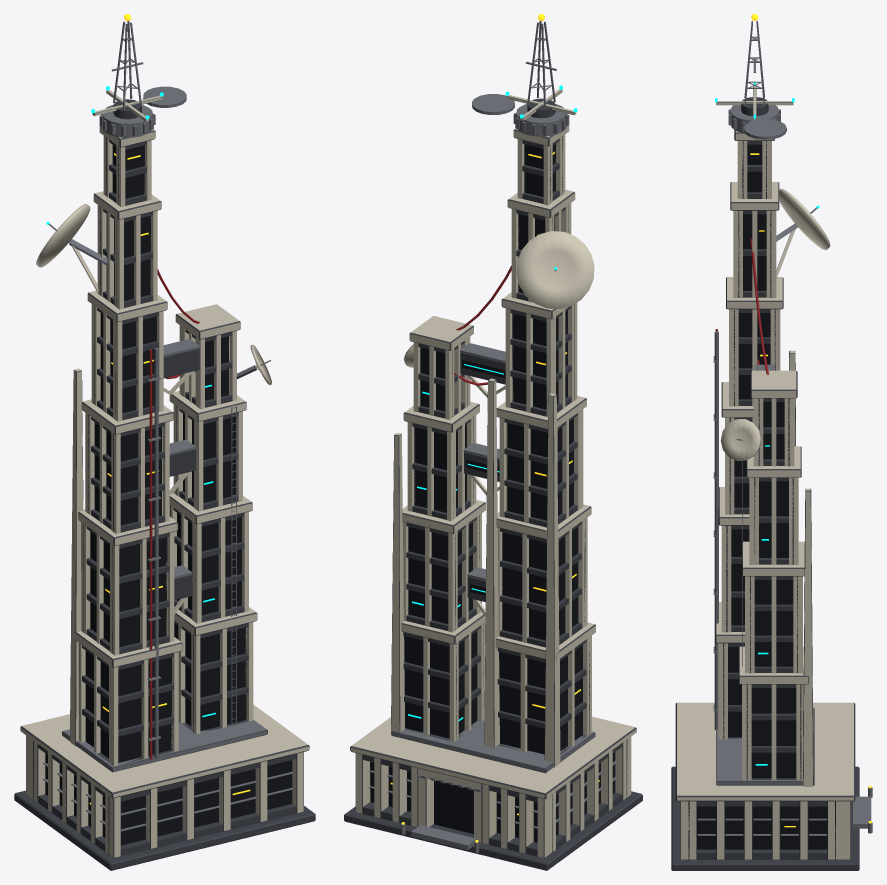
The model's file is relay_tower.glb.
3 views of the same model, side by side, from view 1: azimuth 30°, elevation 25°; view 2: azimuth 150°, elevation 25°; view 3: azimuth 270°, elevation 25° (orthographic). The views are drawn at different scales.
Parts seen in each view (by area): view 1: relay_tower; view 2: relay_tower; view 3: relay_tower.
Boxes of the visible parts, x1=… form: relay_tower: x1=14, y1=14, x2=315, y2=870; relay_tower: x1=344, y1=14, x2=642, y2=870; relay_tower: x1=671, y1=14, x2=872, y2=870.
Bounding box in the file's own units: 22.7 × 81.35 × 18.82.
